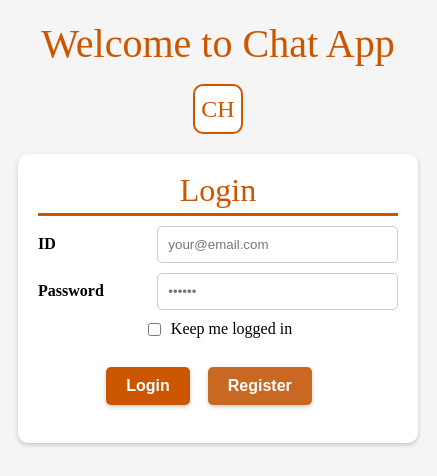
Test case: Login Component › handleSubmitLogin sets username error message when clicking on login button with an invalid username
Type "b" into the field labelled "ID" at (278, 244), box [157, 226, 398, 262]
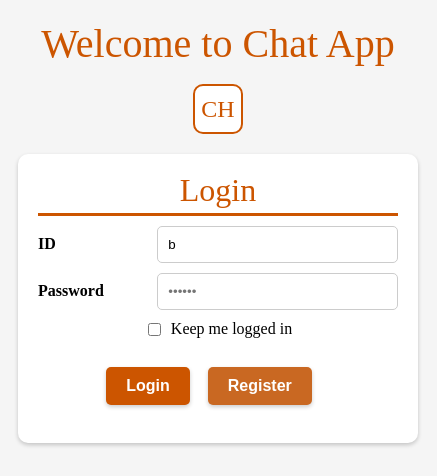
Type "Password123" into the password field labelled "Password" at (278, 291), box [157, 272, 398, 310]
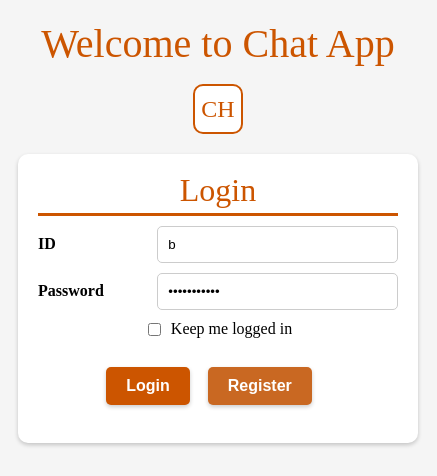
Click the button "Login" at (148, 386), box [106, 366, 190, 404]
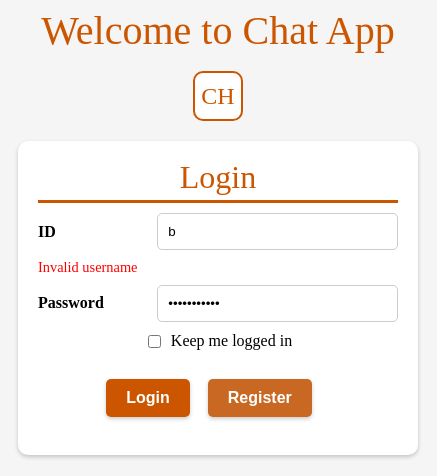
Expected: the text "Invalid username" is shown, [38, 259, 138, 275]
